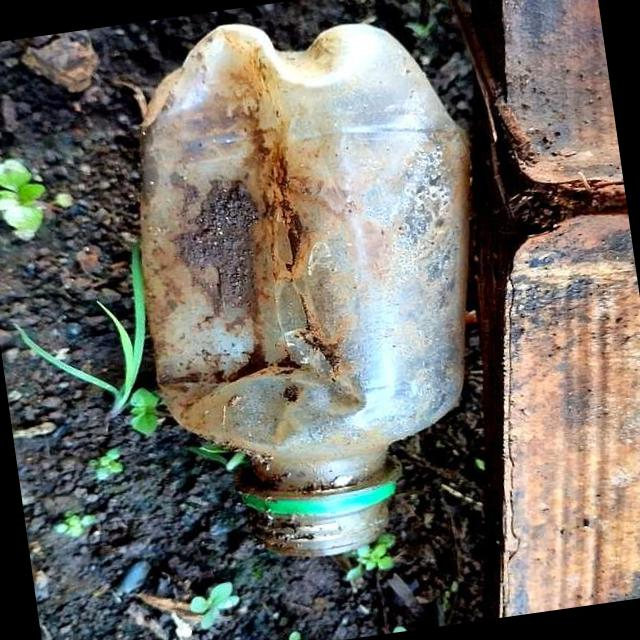Non-biodegradable: (108, 1, 519, 574)
